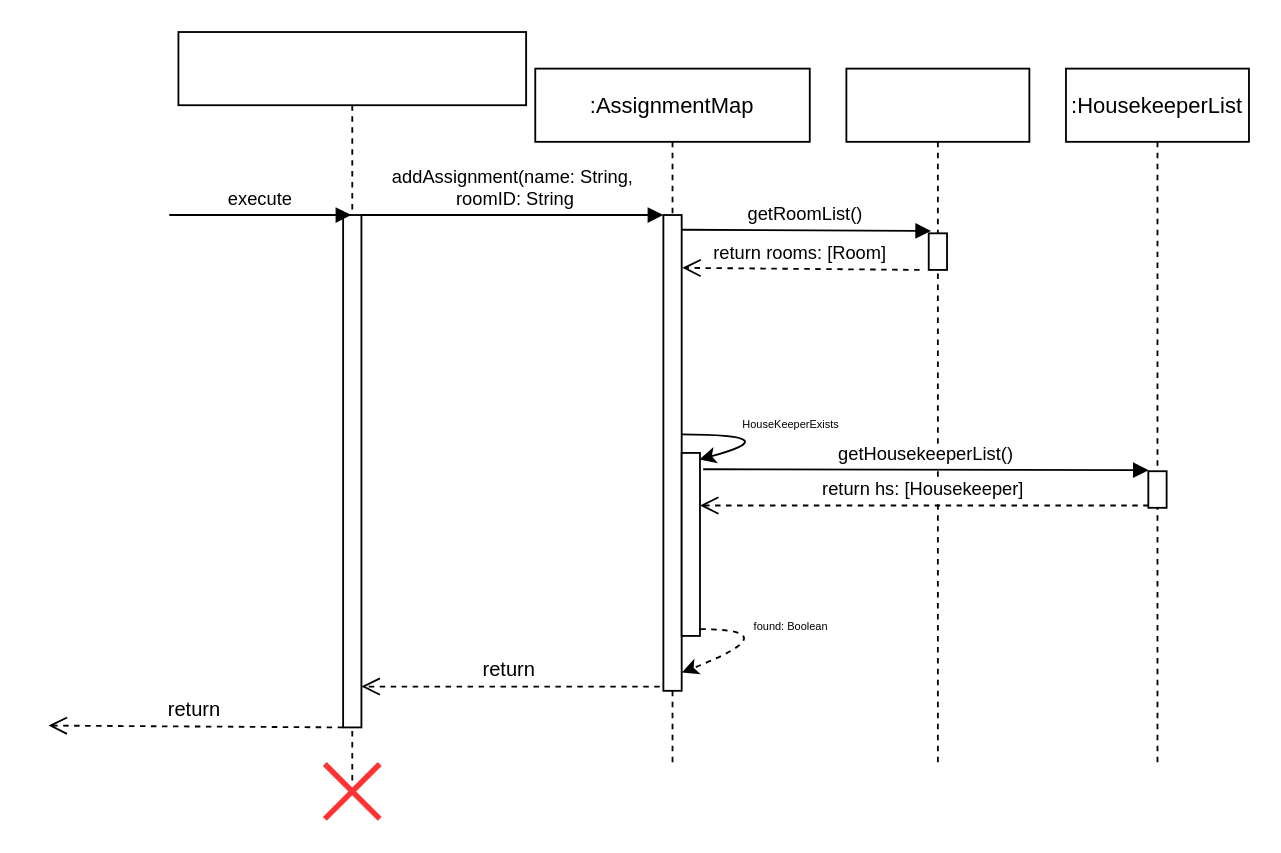
Some shapes in this 1281 by 853 pixel diagram are drawn without their labels. The shapes that lost their labels are listed below. From the top down, each one's box as (x1, y1, x2, y2) in pixels, then its label:
(177, 30, 526, 782): :AssignHousekeeperCommand
(845, 67, 1029, 764): :RoomList
